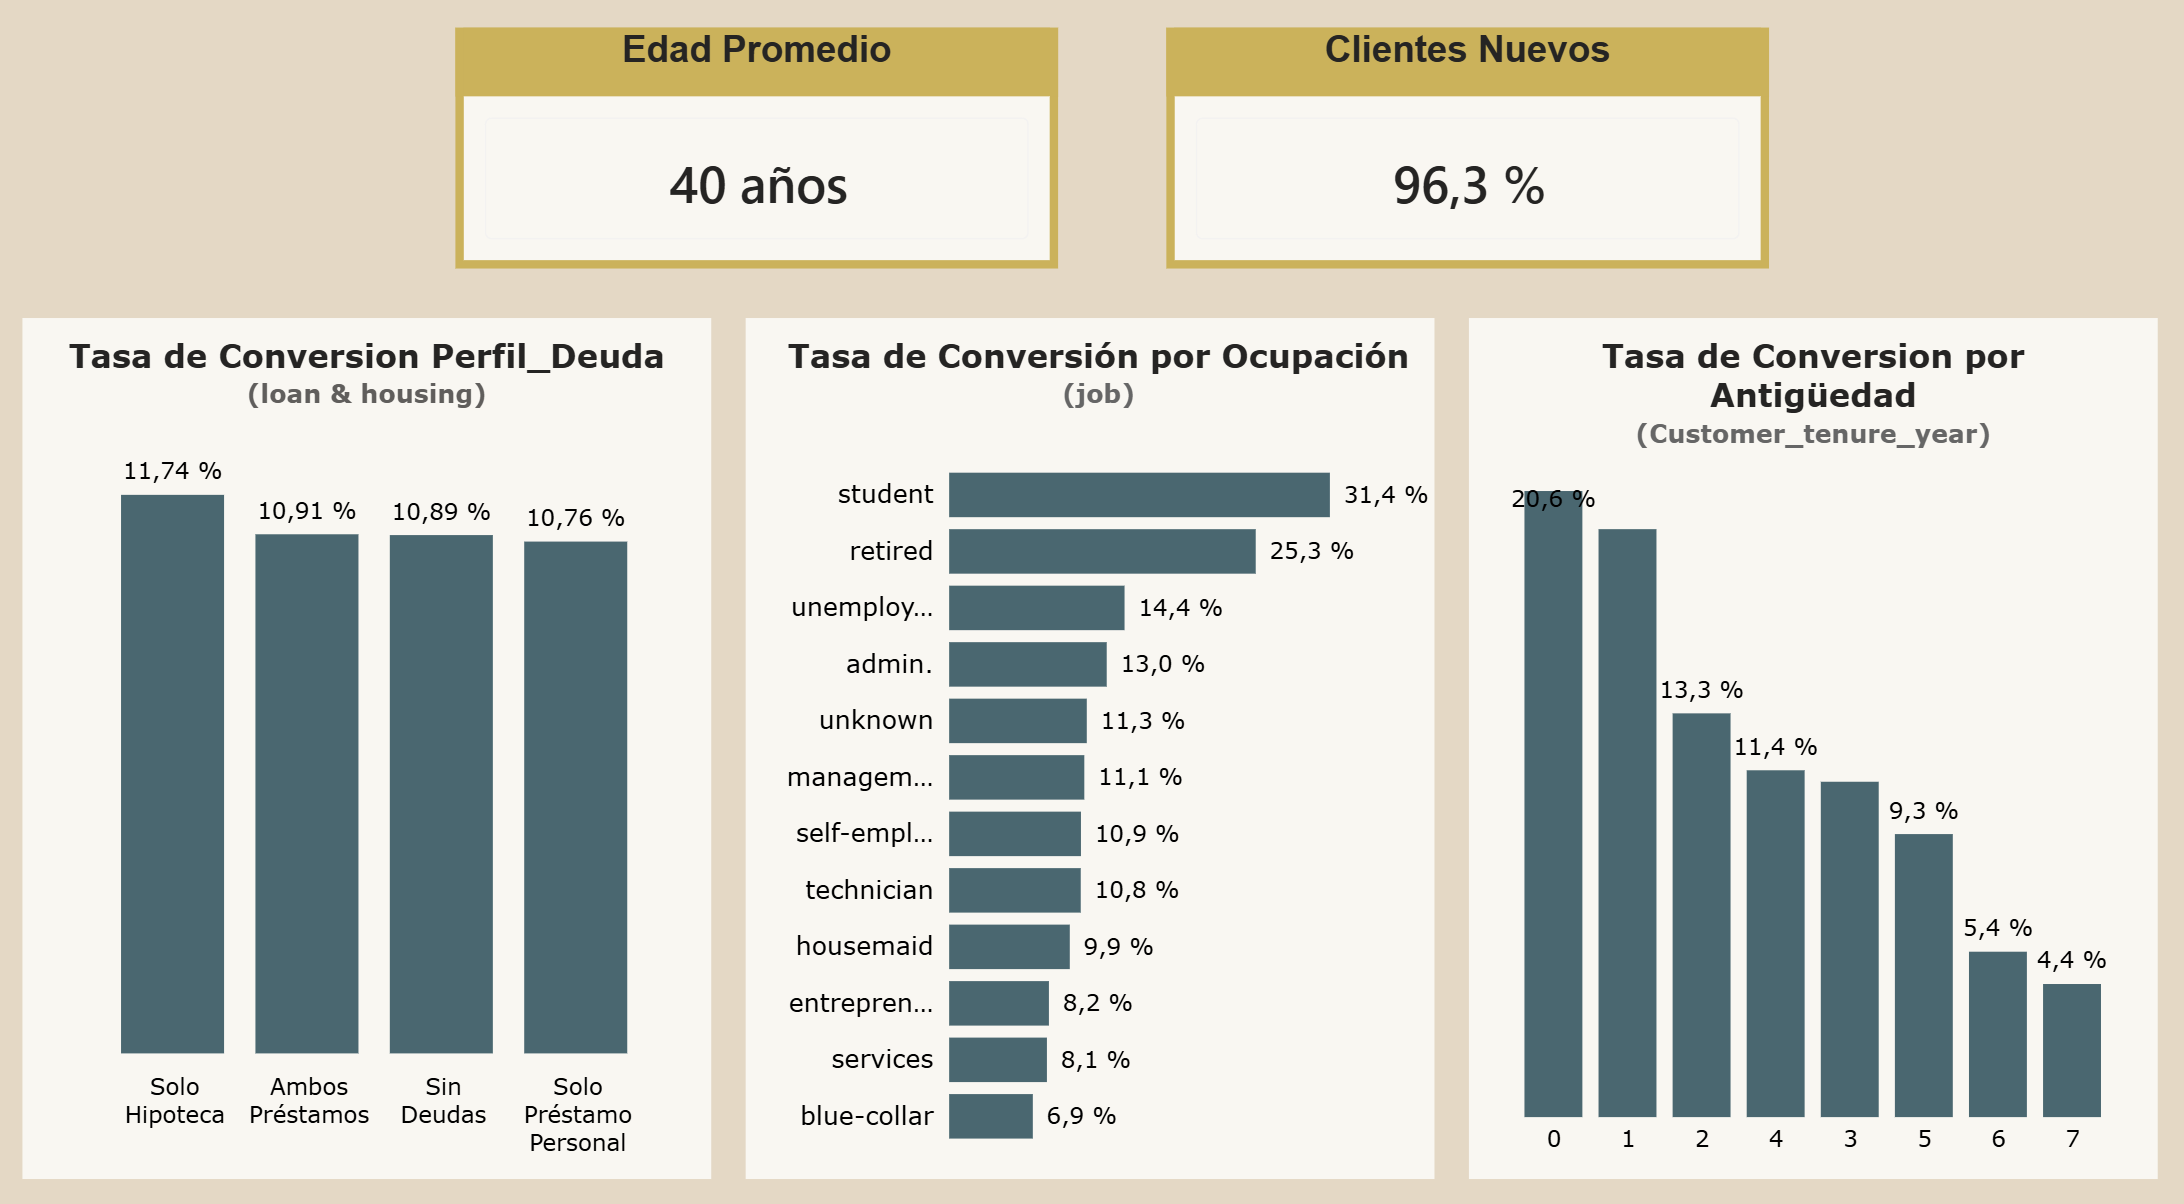

The page's visual inventory and layout, read from the dashboard file:
{"tool":"powerbi","page":{"name":"Segmentación y Perfil del Cliente","canvas":[1280,720],"ordinal":1},"visuals":[{"type":"cardVisual","title":"Edad Promedio","fields":{"Data":["_Medidas.Edad_Promedio"]},"box":[271.7,26.7,350,140],"z":0},{"type":"cardVisual","title":"Clientes Nuevos","fields":{"Data":["_Medidas.Porcentaje_Clientes_Nuevos"]},"box":[685,26.7,350,140],"z":1000},{"type":"clusteredBarChart","title":"Tasa de Conversión por Ocupación","fields":{"Category":["bank_marketing_cleaned.job"],"Y":["_Medidas.Tasa Conversion %"]},"box":[440,195,400,500],"z":2000},{"type":"clusteredColumnChart","title":"Tasa de Conversion por  Antigüedad","fields":{"Category":["bank_marketing_cleaned.Customer_tenure_year"],"Y":["_Medidas.Tasa Conversion %"]},"box":[860,195,400,500],"z":3000},{"type":"clusteredColumnChart","title":"Tasa de Conversion  Perfil_Deuda","fields":{"Category":["bank_marketing_cleaned.Perfil_Deuda"],"Y":["_Medidas.Tasa Conversion %"]},"box":[20,195,400,500],"z":4000}]}

Visuals, with their boxes in screenshot pixels (x1, y1, x2, y2), scaled from the page's 1280x720 canvas onto the 2184x1204 screenshot:
"Edad Promedio" cardVisual: 464 45 1061 279
"Clientes Nuevos" cardVisual: 1169 45 1766 279
"Tasa de Conversión por Ocupación" clusteredBarChart: 751 326 1433 1162
"Tasa de Conversion por  Antigüedad" clusteredColumnChart: 1467 326 2150 1162
"Tasa de Conversion  Perfil_Deuda" clusteredColumnChart: 34 326 717 1162
